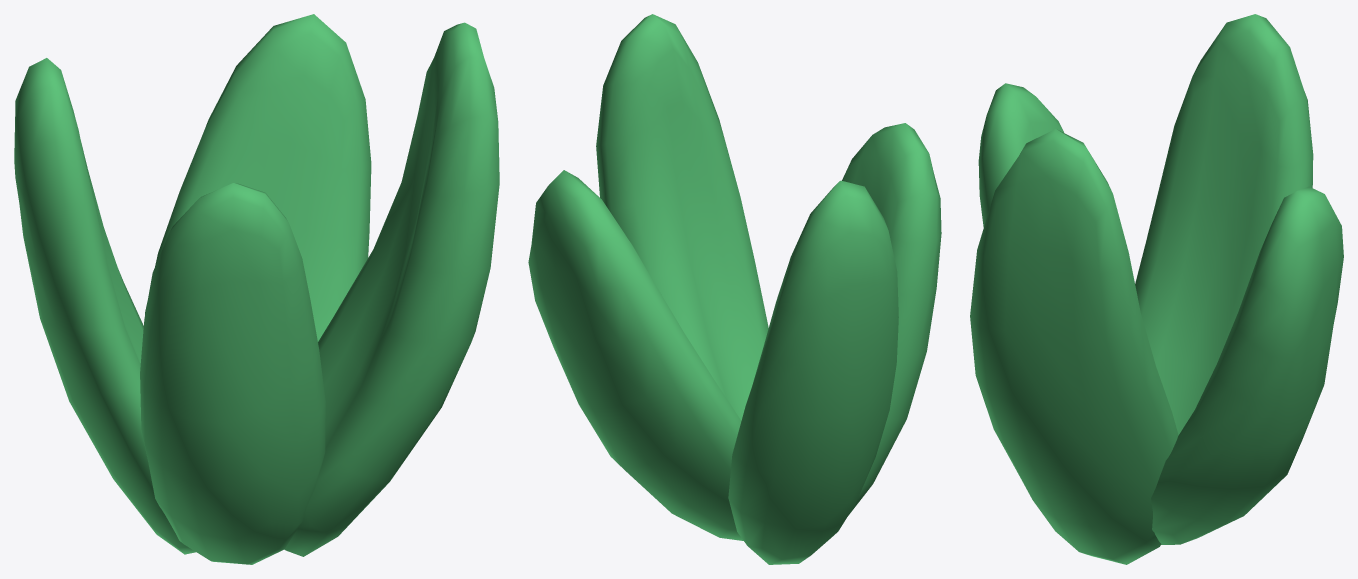
File: Plant_A_01.fbx
3 renders of one model, left to right at view 1: azimuth 30°, elevation 25°; view 2: azimuth 150°, elevation 25°; view 3: azimuth 270°, elevation 25°, orthographic. The views are drawn at different scales.
Visible parts, largest first — view 1: Plant_A_01_LOD0; view 2: Plant_A_01_LOD0; view 3: Plant_A_01_LOD0.
Part boxes in pixels (x1,y1,x2,y2): Plant_A_01_LOD0: (14,14,499,564); Plant_A_01_LOD0: (528,14,941,564); Plant_A_01_LOD0: (970,14,1343,564).
Size of what is drawn, in the model's own units: 354 by 456 by 306.
